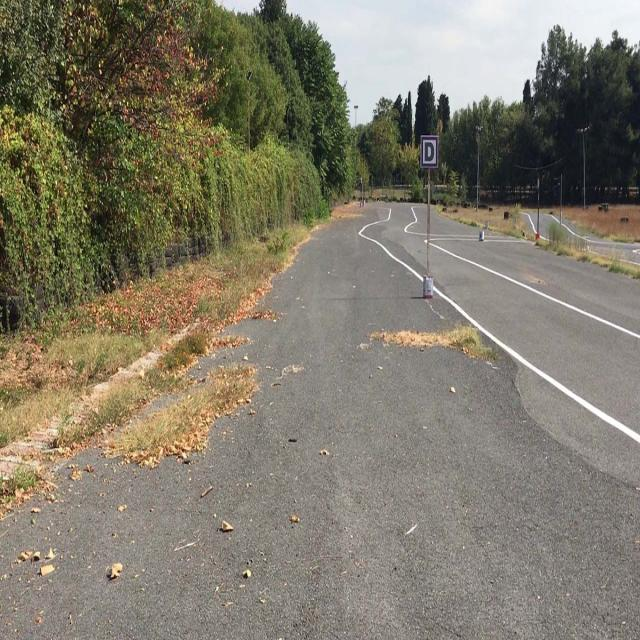durak: (421, 134, 438, 169)
